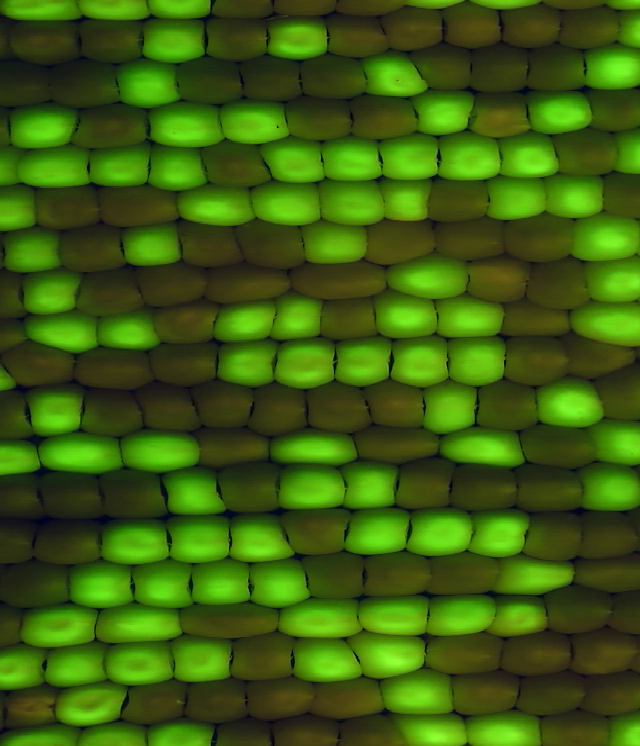fluorescent: (159, 508, 238, 566), (377, 667, 465, 719), (382, 252, 472, 302), (171, 178, 259, 229), (536, 376, 613, 433), (100, 637, 183, 688), (115, 428, 205, 475), (522, 86, 601, 138), (91, 602, 184, 646), (288, 633, 368, 684), (348, 627, 429, 677), (277, 594, 364, 640), (22, 602, 105, 650), (312, 176, 390, 227), (99, 515, 173, 568), (249, 176, 324, 228), (432, 292, 513, 340), (92, 305, 168, 356), (390, 333, 456, 391), (443, 424, 531, 467), (149, 99, 227, 147), (488, 587, 556, 642), (566, 211, 640, 261), (38, 431, 124, 474), (437, 128, 504, 183), (8, 101, 83, 150), (418, 375, 479, 435), (169, 631, 238, 684), (21, 308, 102, 353), (570, 297, 640, 349), (137, 18, 214, 65), (268, 430, 363, 468), (496, 551, 578, 595), (411, 85, 478, 138), (113, 59, 181, 111), (425, 592, 500, 639), (24, 383, 88, 438), (410, 505, 475, 559), (227, 513, 297, 563), (273, 338, 339, 391), (468, 503, 528, 561), (374, 132, 445, 181), (572, 463, 640, 514), (216, 97, 293, 142), (133, 556, 197, 610), (259, 15, 331, 63), (16, 267, 88, 315), (53, 683, 133, 726), (191, 558, 257, 610), (333, 335, 399, 387), (278, 466, 351, 513), (212, 338, 282, 387), (539, 172, 607, 222), (42, 640, 114, 687), (388, 707, 474, 746), (485, 172, 552, 222), (299, 218, 370, 265), (2, 223, 66, 275), (144, 142, 209, 193), (66, 562, 135, 610), (498, 127, 559, 181), (18, 146, 96, 188), (359, 52, 430, 98), (247, 559, 312, 609), (583, 411, 640, 468), (160, 470, 230, 516), (374, 288, 441, 336), (577, 42, 640, 92), (83, 145, 158, 187), (348, 507, 412, 556), (460, 710, 546, 746), (262, 137, 329, 183), (356, 593, 432, 633), (342, 460, 401, 511), (324, 133, 384, 182), (581, 256, 640, 305), (215, 298, 279, 343), (118, 222, 183, 266), (271, 292, 325, 344), (379, 173, 432, 225), (0, 641, 51, 692), (139, 717, 221, 746), (0, 183, 46, 232), (76, 717, 151, 746), (77, 1, 157, 25), (0, 435, 39, 480), (0, 1, 91, 20), (0, 725, 81, 746), (145, 1, 214, 21), (605, 711, 640, 746), (403, 1, 470, 12), (467, 1, 539, 10), (601, 1, 640, 15)
nonfluorescent: (287, 257, 391, 299), (172, 215, 250, 270), (93, 468, 170, 522), (91, 179, 181, 225), (511, 462, 588, 515), (560, 329, 640, 379), (522, 255, 592, 312), (448, 460, 521, 514), (430, 213, 507, 264), (35, 468, 106, 523), (546, 127, 622, 178), (47, 59, 124, 109), (306, 379, 376, 434), (31, 517, 105, 569), (196, 140, 274, 189), (502, 333, 574, 386), (350, 426, 443, 467), (179, 602, 282, 639), (70, 102, 151, 149), (347, 91, 423, 141), (235, 222, 310, 272), (540, 584, 618, 632), (204, 262, 295, 303), (469, 379, 542, 430), (78, 383, 144, 439), (359, 377, 430, 429), (73, 345, 155, 390), (132, 377, 199, 432), (277, 508, 352, 557), (198, 427, 276, 474), (523, 511, 587, 568), (282, 94, 356, 143), (423, 631, 505, 675), (249, 381, 311, 439), (74, 268, 147, 317), (363, 219, 439, 266), (503, 215, 579, 262), (301, 551, 371, 602), (230, 633, 300, 684), (33, 184, 105, 233), (8, 15, 83, 62), (147, 300, 225, 345), (3, 342, 79, 388), (217, 465, 284, 517), (57, 225, 131, 272), (0, 562, 74, 609), (450, 672, 529, 716), (409, 42, 477, 93), (466, 255, 535, 305), (362, 552, 435, 599), (189, 381, 256, 432), (469, 90, 536, 141), (75, 13, 146, 61), (172, 59, 246, 105), (520, 426, 599, 469), (299, 52, 371, 99), (428, 174, 493, 226), (500, 633, 576, 677), (576, 509, 640, 561), (311, 676, 387, 719), (204, 17, 273, 64), (394, 459, 455, 512), (147, 340, 220, 384), (428, 552, 502, 595), (468, 46, 534, 94), (183, 680, 254, 724), (529, 42, 590, 93), (573, 629, 640, 675), (135, 264, 212, 304), (240, 55, 305, 102), (512, 677, 588, 717), (501, 299, 575, 340), (248, 677, 320, 719), (318, 296, 385, 341), (556, 7, 623, 52), (501, 4, 565, 51), (0, 59, 61, 107), (385, 8, 445, 56), (535, 711, 617, 746), (326, 14, 389, 59), (443, 4, 502, 51), (576, 674, 640, 717), (122, 684, 189, 725), (0, 472, 52, 524), (590, 369, 640, 422), (573, 554, 640, 593), (585, 87, 640, 132), (269, 714, 346, 746), (333, 717, 409, 746), (0, 516, 42, 568), (209, 716, 277, 746), (601, 169, 640, 221), (6, 688, 58, 726), (0, 390, 34, 441), (0, 313, 34, 356), (270, 1, 340, 19), (209, 1, 272, 20), (337, 1, 406, 18), (540, 1, 610, 8)
